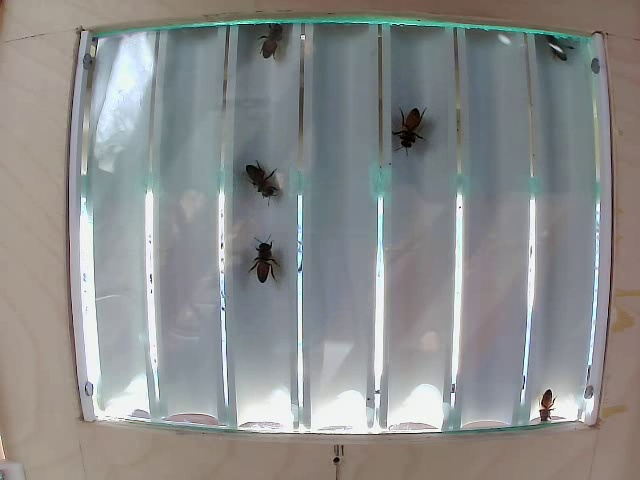bee: (384, 97, 432, 159), (240, 156, 286, 206), (247, 232, 288, 287), (256, 25, 301, 68)
